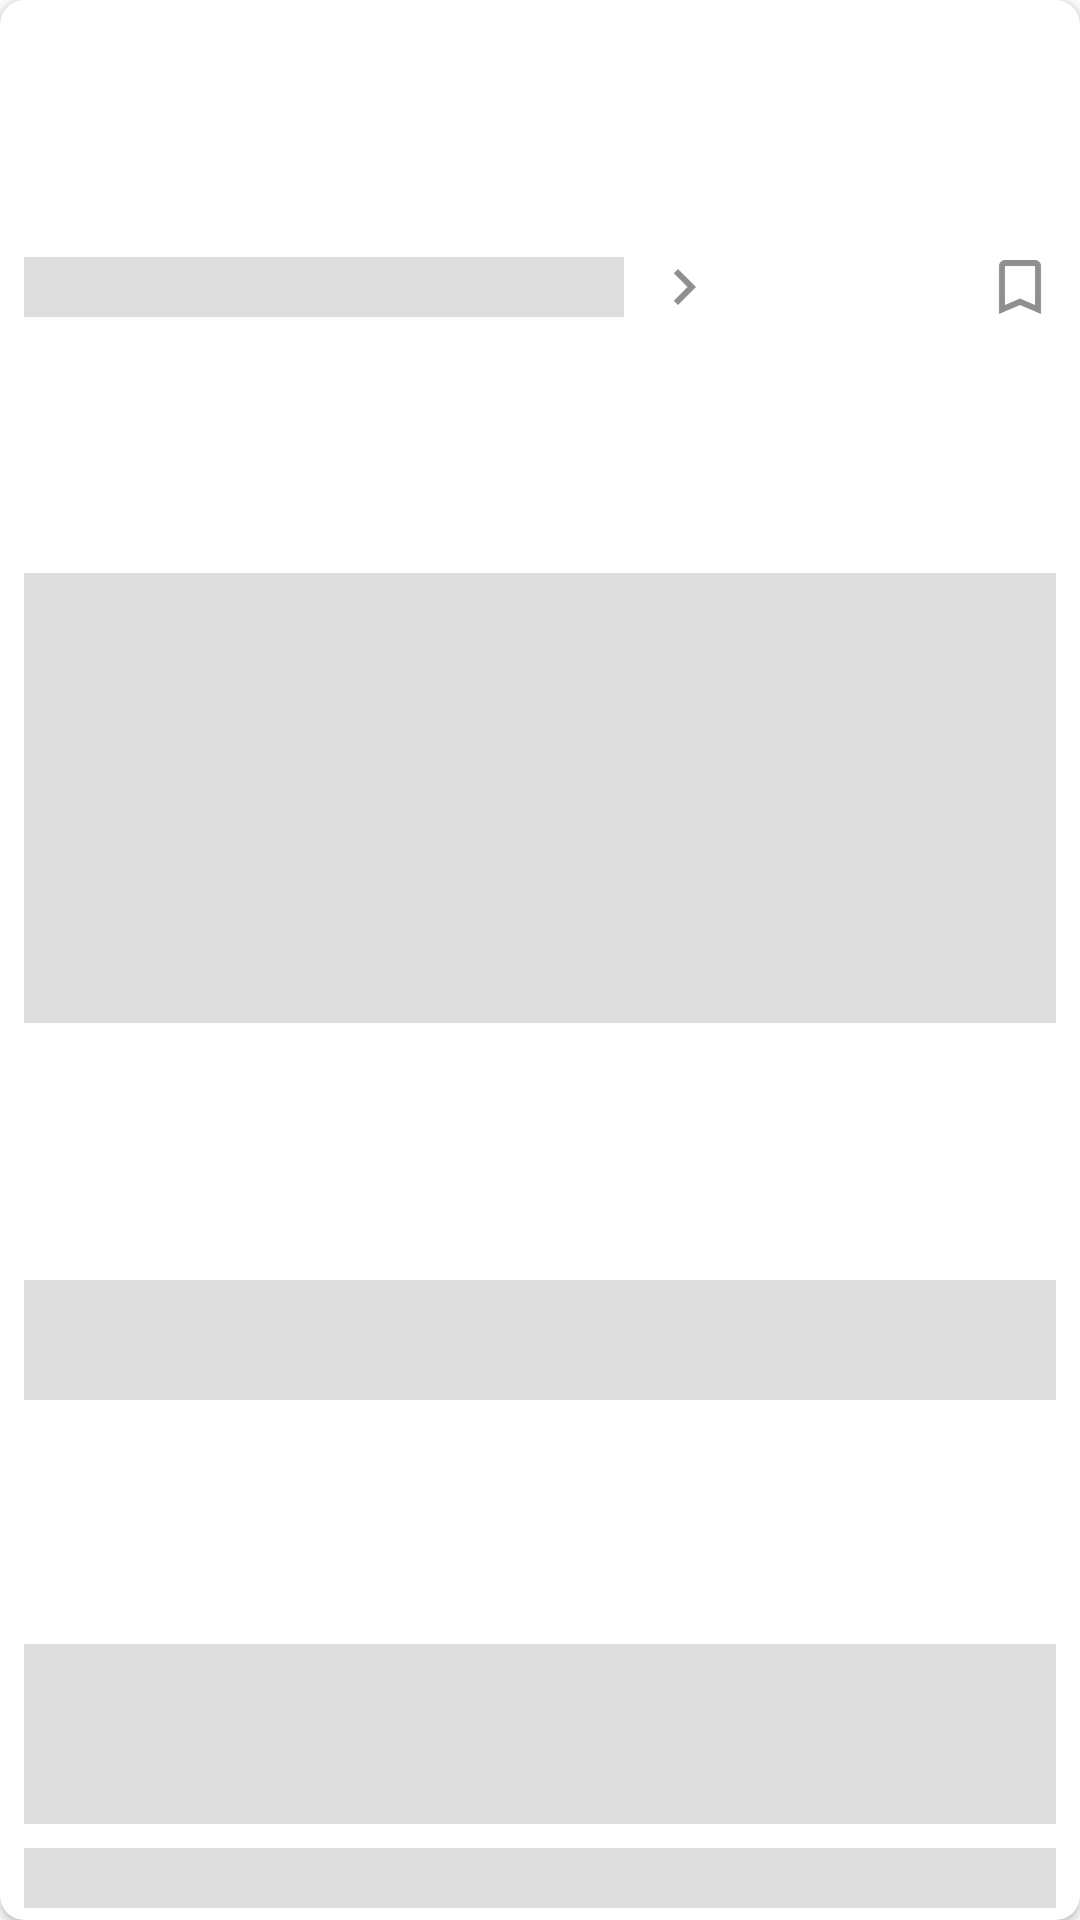

Icons on this 1080px×1920px Android screen, each with the point to tap as (x=x, y=y):
bookmark: (x=1020, y=287)
feeds more details: (x=685, y=287)
